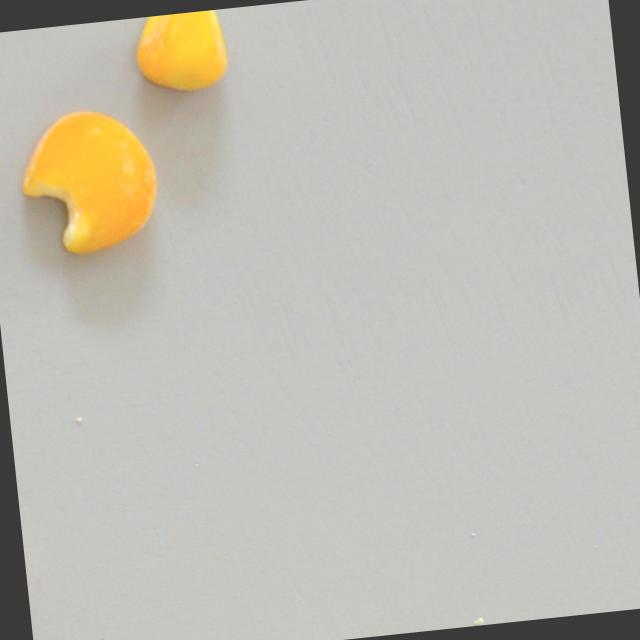no_canjicado: (6, 98, 177, 266), (123, 8, 236, 103)
